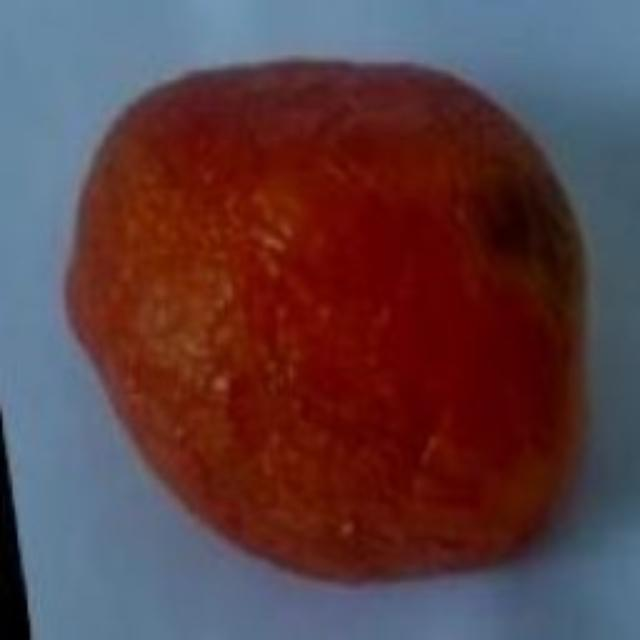defect: (59, 51, 603, 584)
